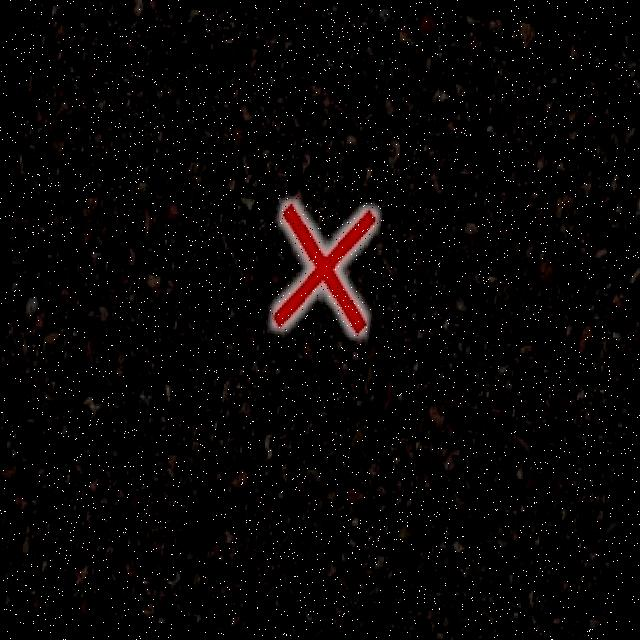x_marker: (268, 198, 377, 334)
